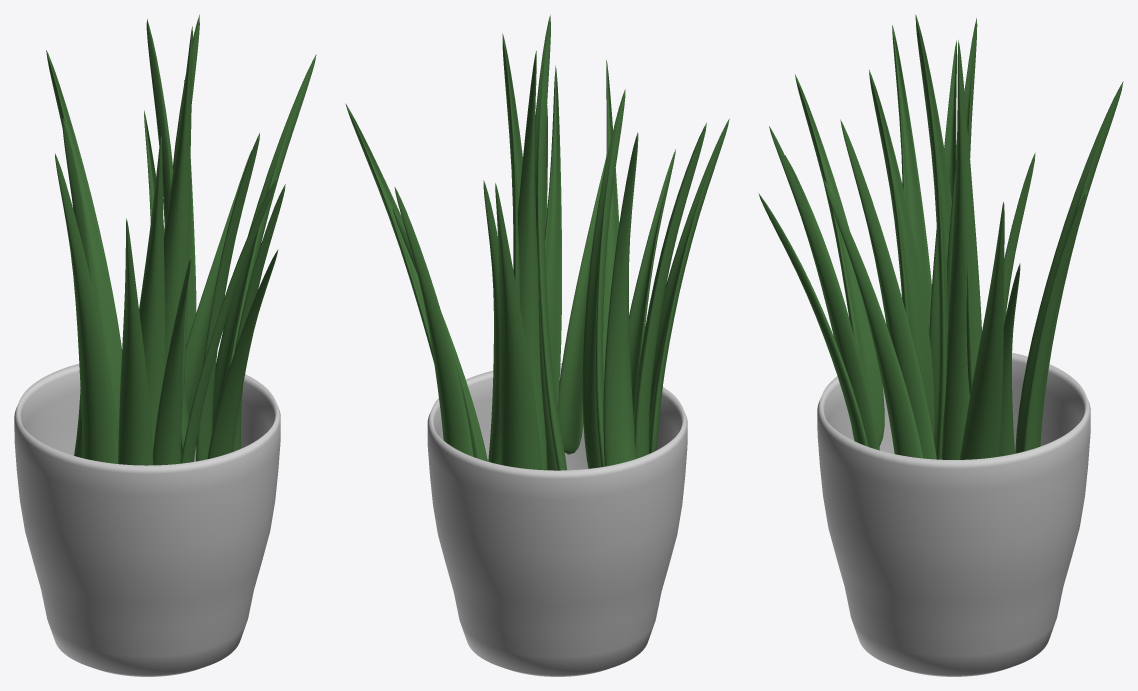
File: pot kembang.glb
The picture shows the model from 3 angles, left to right: view 1: azimuth 30°, elevation 25°; view 2: azimuth 150°, elevation 25°; view 3: azimuth 270°, elevation 25°; orthographic projection. The views are drawn at different scales.
Parts seen in each view (by area): view 1: Cone002, Box153, Box163, Box149, Box154, Box156, Box162, Box150, Box152, Box161, Box151, Box157 (+6 smaller); view 2: Cone002, Box156, Box155, Box154, Box164, Box163, Box159, Box153, Box152, Box149, Box161, Box162 (+5 smaller); view 3: Cone002, Box165, Box162, Box161, Box154, Box160, Box163, Box151, Box149, Box156, Box153, Box159 (+5 smaller).
Part boxes in pixels (x1,y1,x2,y2): Cone002: (14,364,280,676); Box153: (55,153,118,463); Box163: (163,26,192,425); Box149: (118,218,153,465); Box154: (139,136,165,450); Box156: (46,50,121,441); Box162: (212,54,316,431); Box150: (153,257,191,465); Box152: (207,249,278,459); Box161: (196,133,259,461); Box151: (180,176,277,463); Box157: (184,150,251,418); Cone002: (427,363,687,676); Box156: (495,183,541,469); Box155: (603,132,638,466); Box154: (582,89,625,468); Box164: (518,50,547,470); Box163: (535,15,566,470); Box159: (394,187,473,456); Box153: (633,122,706,458); Box152: (557,157,606,454); Box149: (649,118,729,453); Box161: (544,66,561,407); Box162: (345,103,487,461); Cone002: (817,353,1090,676); Box165: (941,40,981,459); Box162: (959,202,1004,459); Box161: (840,119,936,459); Box154: (869,70,934,439); Box160: (823,179,923,458); Box163: (915,14,951,459); Box151: (769,126,879,450); Box149: (795,74,884,446); Box156: (1015,81,1123,453); Box153: (892,25,931,331); Box159: (1023,190,1087,451).
Bounding box in the file's own units: 0.1635 × 0.3089 × 0.1594.
